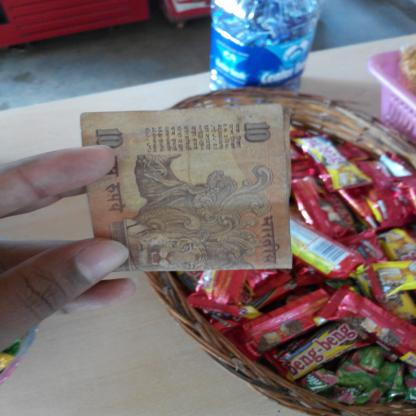Old10Back: (79, 103, 295, 273)
